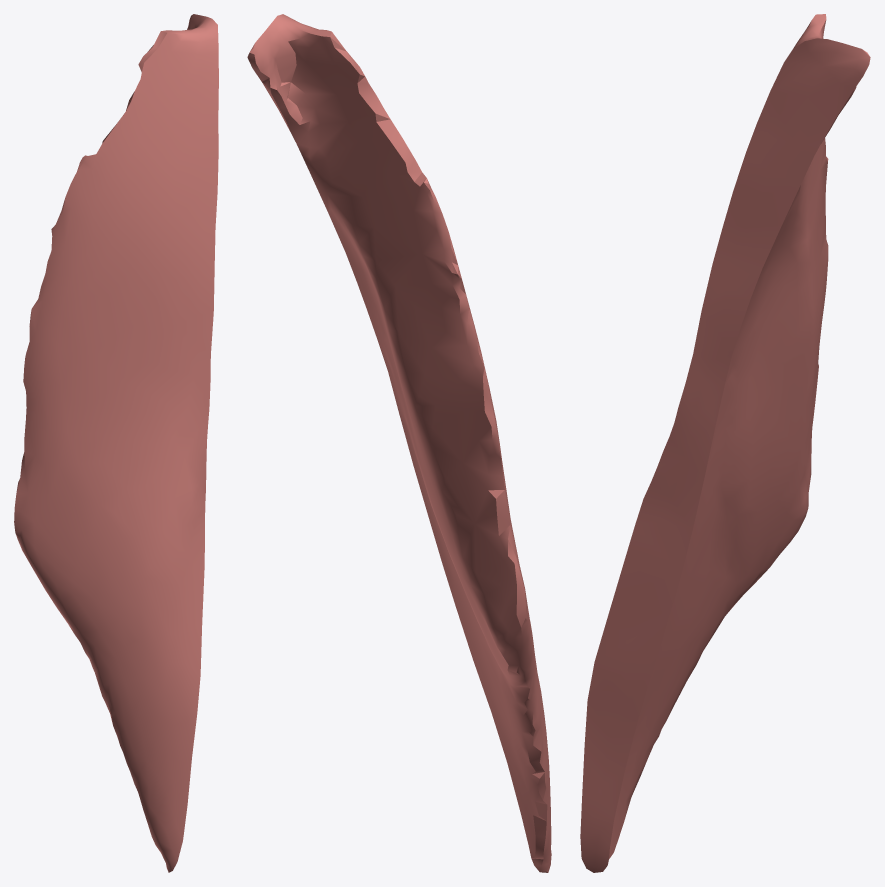
The model's file is fma38640_mm1852.glb.
3 renders of one model, left to right at view 1: azimuth 30°, elevation 25°; view 2: azimuth 150°, elevation 25°; view 3: azimuth 270°, elevation 25°, orthographic. The views are drawn at different scales.
Parts seen in each view (by area): view 1: FMA38640_MM1852; view 2: FMA38640_MM1852; view 3: FMA38640_MM1852.
Part boxes in pixels (<box>): FMA38640_MM1852: <box>14,14,218,872</box>; FMA38640_MM1852: <box>247,14,551,872</box>; FMA38640_MM1852: <box>580,14,870,872</box>.
Size of the model in its own units: 0.0257 by 0.0894 by 0.0257.
